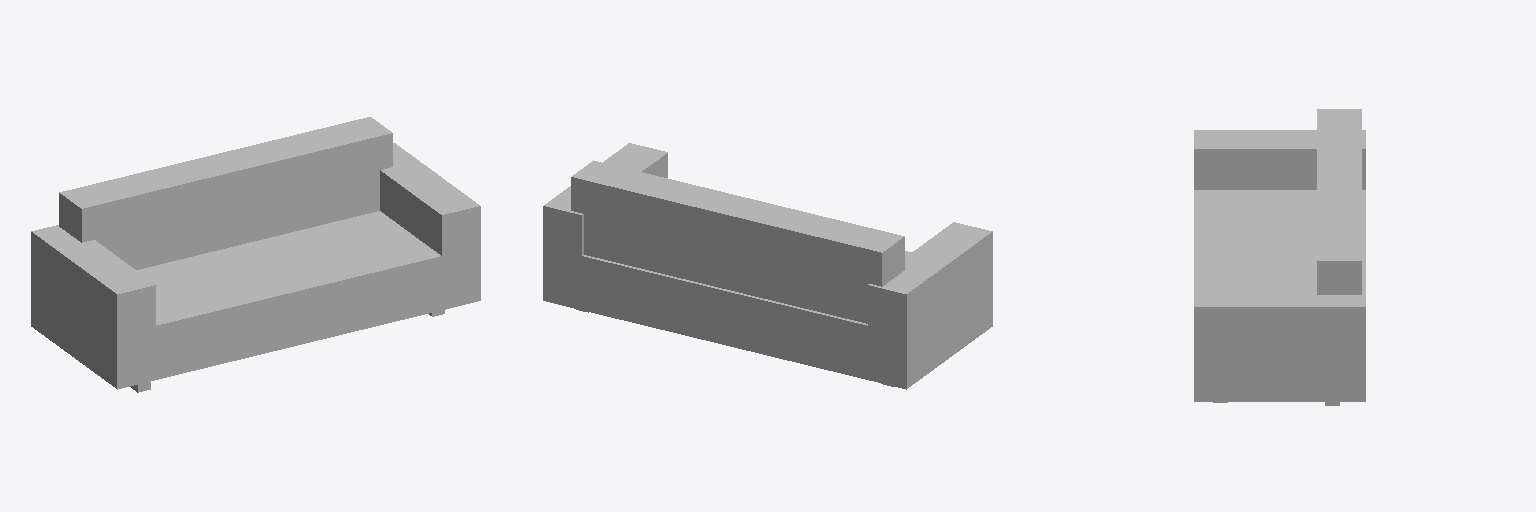
File: couch.obj
3 views of the same model, side by side, from view 1: azimuth 30°, elevation 25°; view 2: azimuth 150°, elevation 25°; view 3: azimuth 270°, elevation 25° (orthographic).
Size of the model in its own units: 0.56 by 0.21 by 0.23.